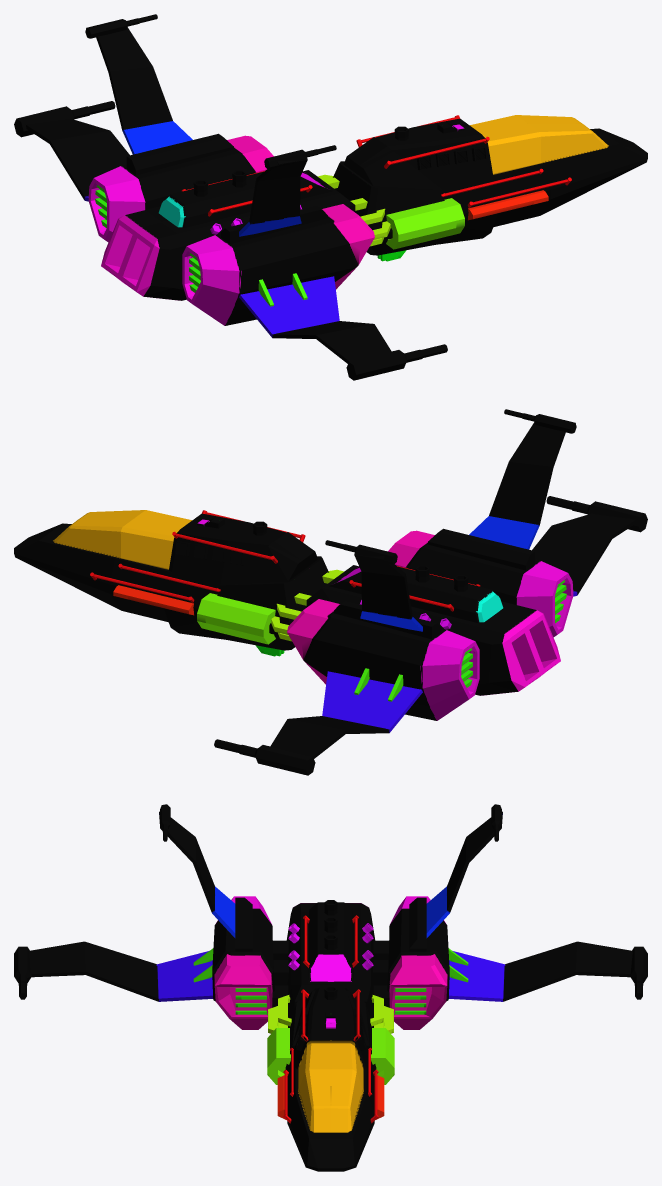
File: AirCraft.fbx
The picture shows the model from 3 angles, top to bottom: view 1: azimuth 30°, elevation 25°; view 2: azimuth 150°, elevation 25°; view 3: azimuth 270°, elevation 25°; orthographic projection. The views are drawn at different scales.
Visible parts, largest first — view 1: Plane; view 2: Plane; view 3: Plane.
Part boxes in pixels (x1=…): Plane: x1=14, y1=14, x2=647, y2=380; Plane: x1=14, y1=409, x2=647, y2=775; Plane: x1=14, y1=804, x2=647, y2=1171.
Size of the model in its own units: 1065 by 414 by 1210.
Materials: 1 (1 with a texture image).
